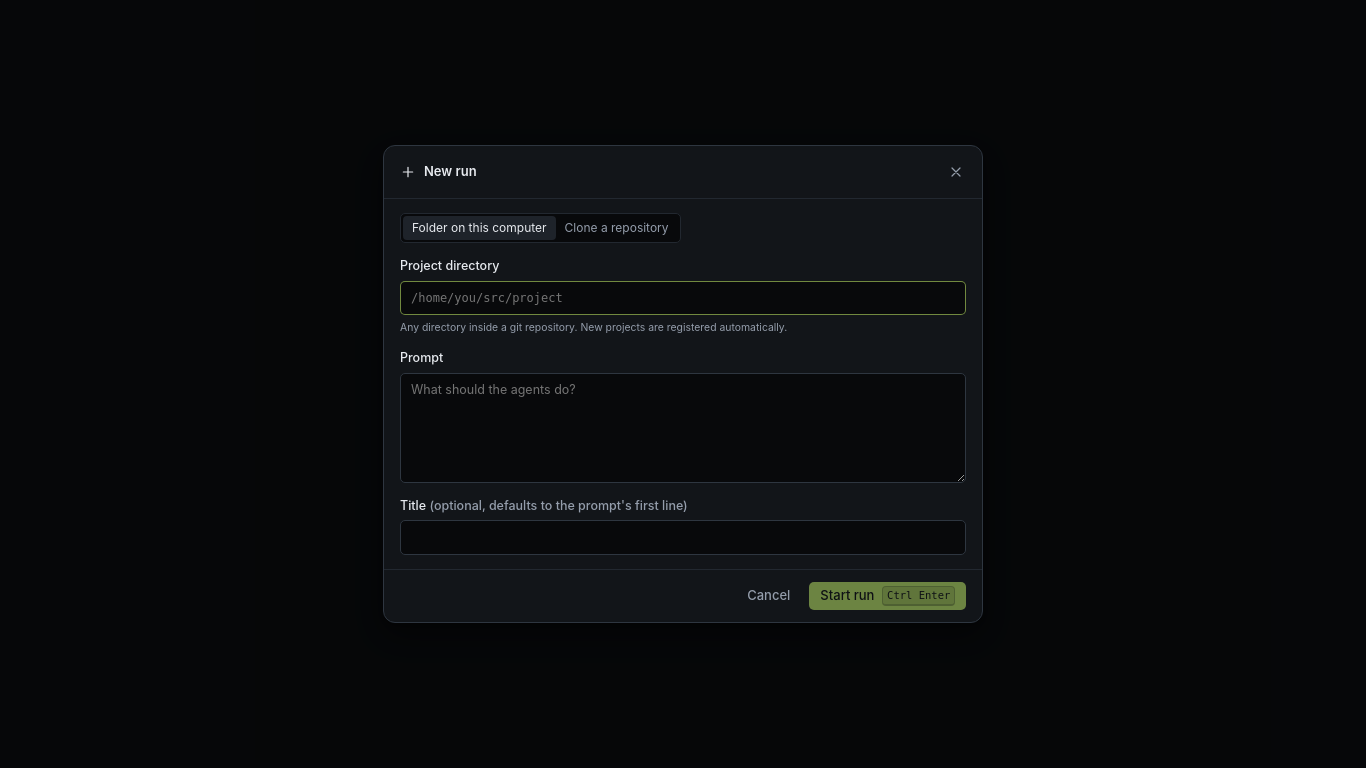
Test: NewRunDialog › clones a repository and uses its directory
Click the tab "Clone a repository": {"x": 617, "y": 228} [556, 216, 678, 240]
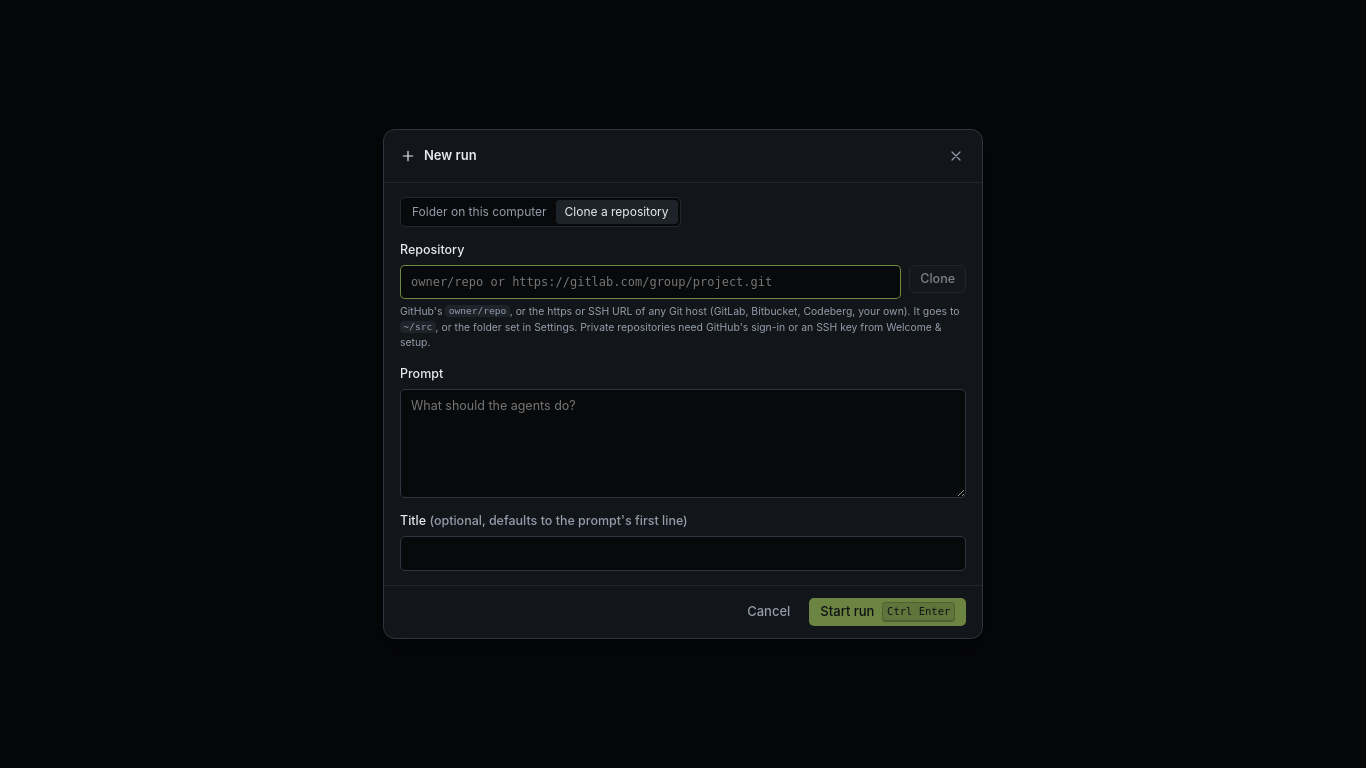
In the field with placeholder "owner/repo or https://gitlab.com/group/project.git": {"x": 651, "y": 282} [400, 265, 901, 299], type "agentux-os/agentux"
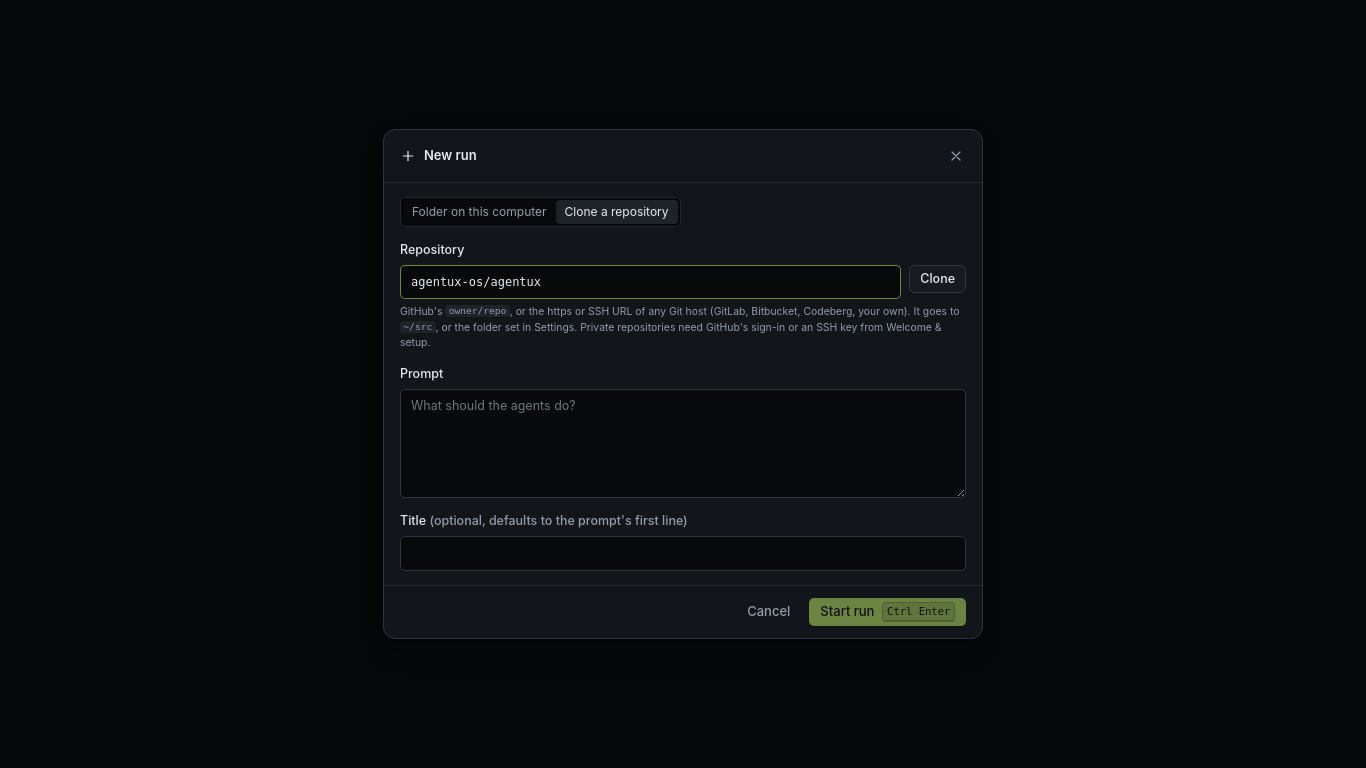
Click the button "Clone": {"x": 938, "y": 279} [909, 265, 966, 293]
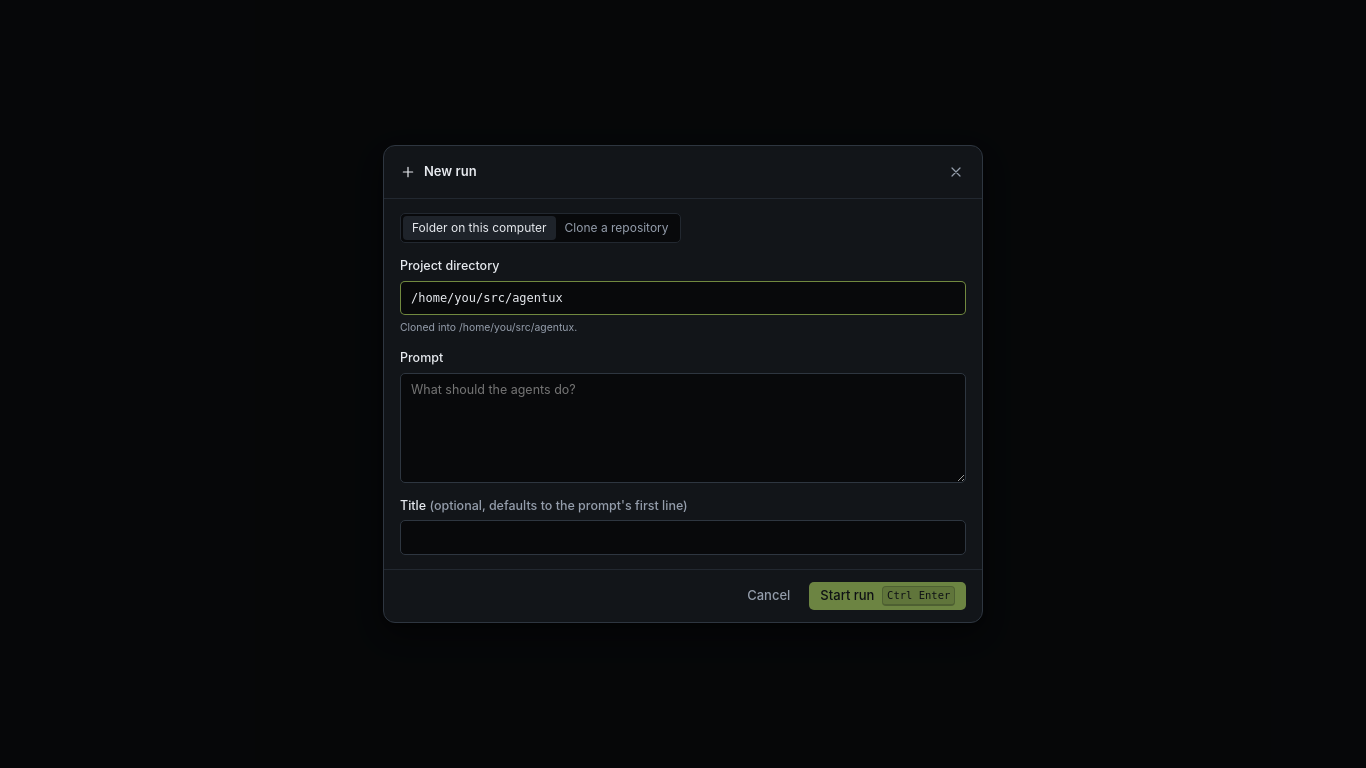
Check: the field with placeholder "/home/you/src/project" holds "/home/you/src/agentux", box [400, 281, 966, 315]
Check: the text "Cloned into /home/you/src/agentux." is shown, box [400, 321, 577, 334]
